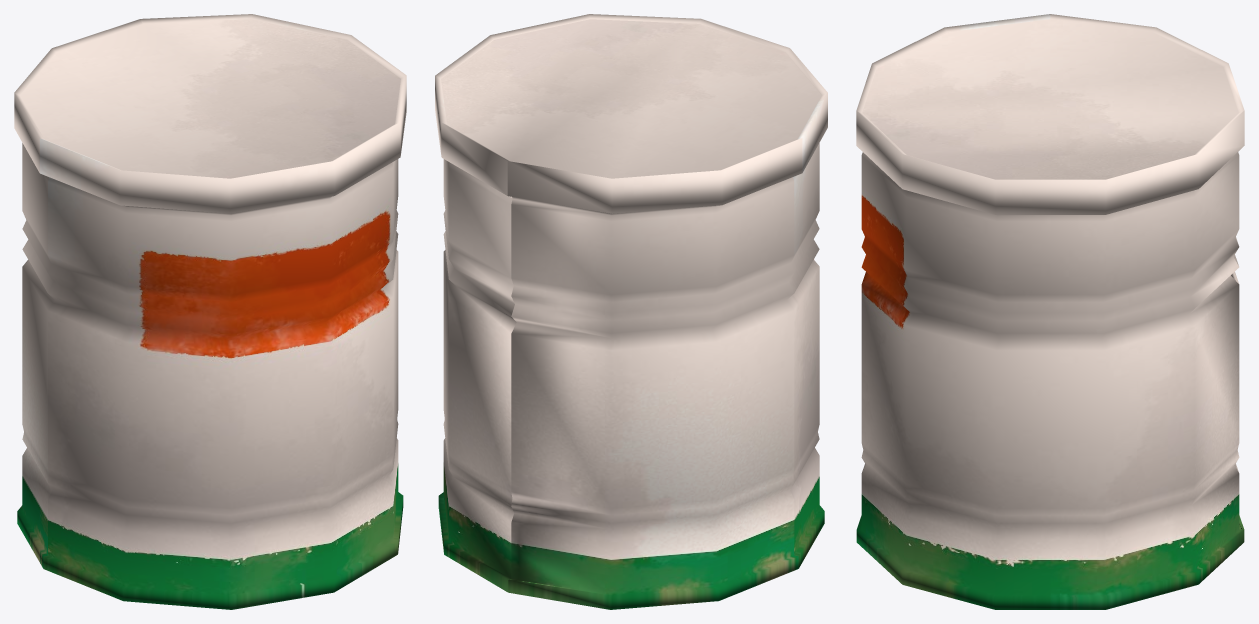
File: 01-cafeconserve-model.glb
The picture shows the model from 3 angles, left to right: view 1: azimuth 30°, elevation 25°; view 2: azimuth 150°, elevation 25°; view 3: azimuth 270°, elevation 25°; orthographic projection.
Parts seen in each view (by area): view 1: 01-cafeconserve-model; view 2: 01-cafeconserve-model; view 3: 01-cafeconserve-model.
Boxes of the visible parts, <box> form: 01-cafeconserve-model: <box>14,14,406,609</box>; 01-cafeconserve-model: <box>435,14,827,609</box>; 01-cafeconserve-model: <box>856,14,1244,609</box>.
Size of the model in its own units: 2.06 by 2.5 by 2.03.
1 material, 1 textured.
